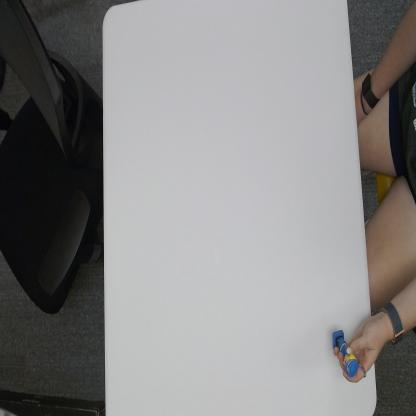Hand: (342, 309, 388, 384)
